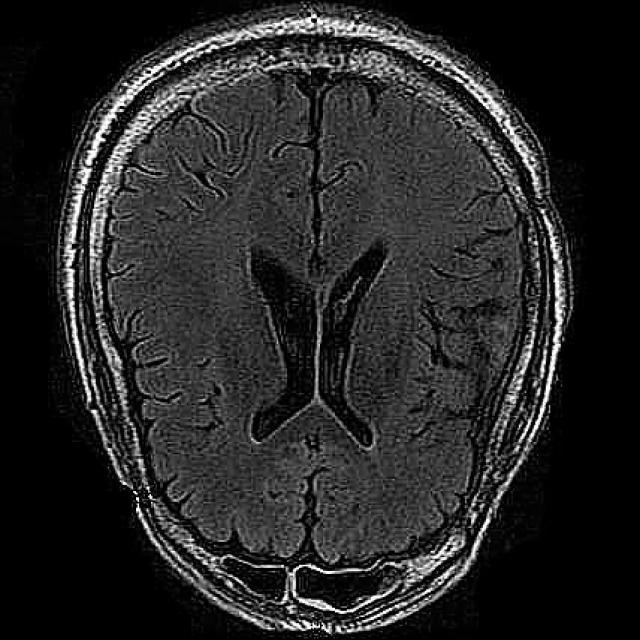notumor: (57, 6, 571, 637)
